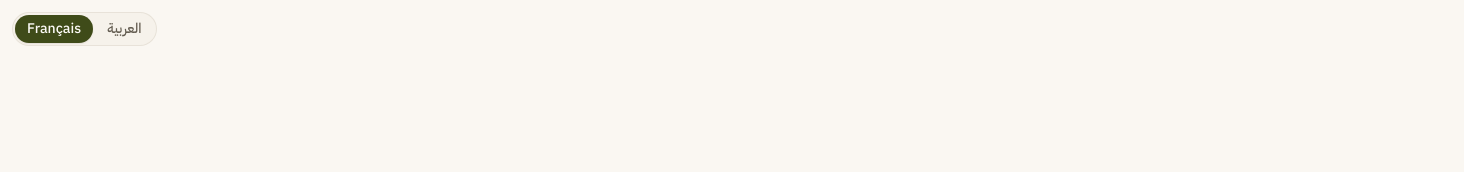
Test: i18n › switches the whole document to right-to-left for Arabic
Step 1. Click the button "العربية" → (124, 29), box [95,15,154,43]
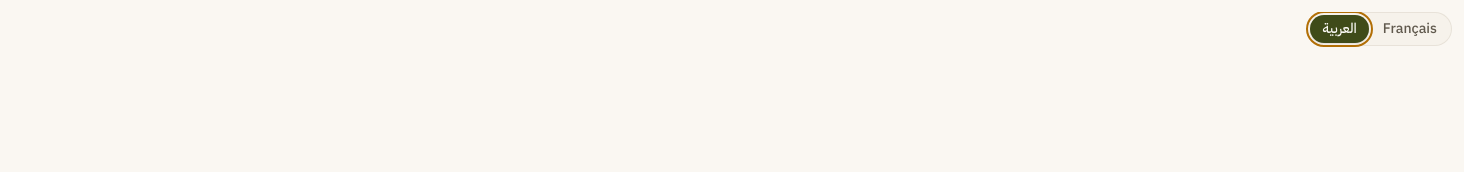
Result: the element named "اللغة" is shown at [1307,12,1452,46]
